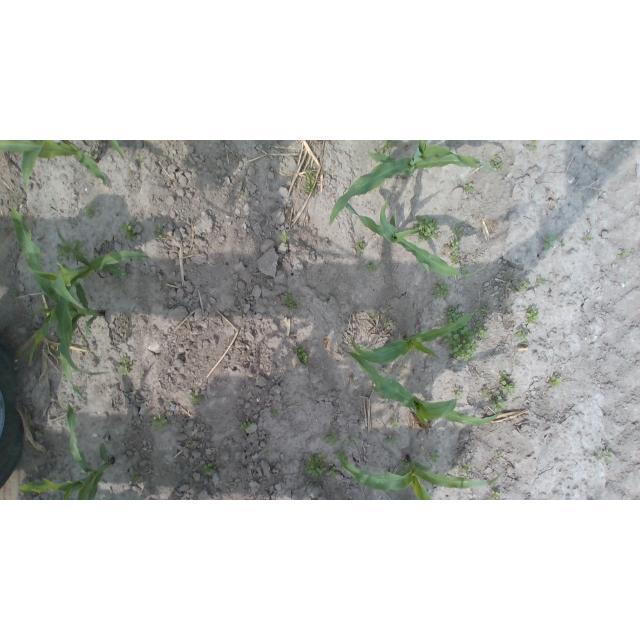Maize: (8, 203, 105, 401), (329, 141, 495, 224), (342, 347, 502, 426), (346, 194, 487, 278), (19, 394, 115, 500), (29, 227, 149, 311), (337, 447, 504, 500), (351, 312, 478, 365), (0, 140, 124, 192)
Weeds: (442, 323, 480, 361), (412, 216, 440, 243), (56, 239, 88, 260), (482, 388, 508, 412), (305, 453, 328, 477), (497, 371, 515, 395), (370, 140, 399, 154), (432, 281, 451, 300), (119, 221, 137, 240), (322, 429, 340, 446), (444, 305, 461, 323), (302, 171, 315, 194), (448, 241, 460, 265), (118, 356, 132, 376), (473, 321, 487, 340), (150, 414, 167, 429), (489, 156, 504, 173), (335, 449, 348, 468), (284, 292, 297, 311), (525, 307, 540, 323), (512, 280, 528, 293), (296, 348, 308, 365), (515, 328, 530, 341), (84, 204, 96, 220), (548, 375, 561, 388), (36, 301, 48, 315), (542, 235, 554, 249), (594, 448, 610, 458), (153, 224, 163, 240), (188, 392, 200, 405), (364, 260, 376, 273), (452, 225, 463, 239), (202, 463, 215, 473), (241, 419, 252, 430), (386, 435, 397, 446), (479, 305, 490, 316), (355, 239, 366, 250), (279, 230, 289, 242), (527, 140, 538, 150), (460, 261, 469, 273), (9, 288, 19, 298), (491, 490, 501, 500), (348, 436, 359, 445), (463, 464, 472, 475), (430, 454, 440, 463), (454, 390, 464, 399), (464, 182, 473, 192), (117, 267, 127, 276), (328, 466, 336, 477), (131, 472, 140, 481), (272, 410, 281, 419), (124, 326, 133, 335), (389, 420, 399, 428), (399, 459, 409, 467), (356, 342, 366, 350), (536, 279, 546, 286), (619, 252, 628, 259), (55, 470, 62, 478), (89, 148, 95, 157), (584, 236, 594, 241), (240, 190, 247, 196), (560, 238, 565, 246), (265, 452, 272, 457), (358, 252, 364, 257), (372, 316, 377, 321)
